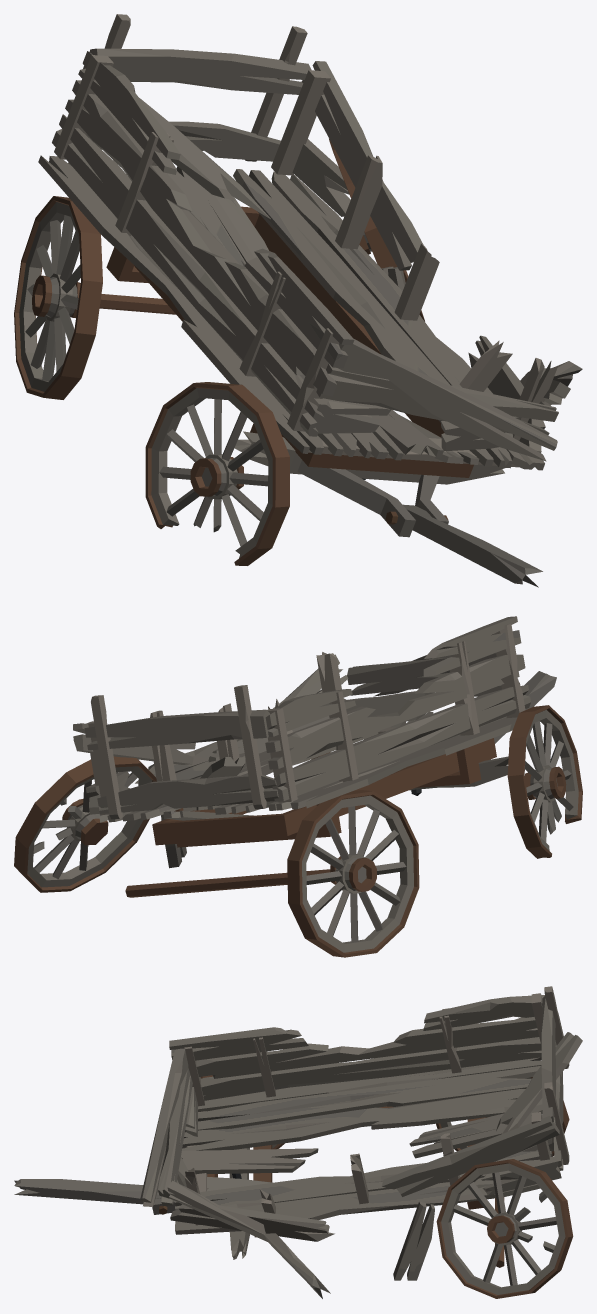
The model's file is SM_Prop_Wagon_Broken_01.fbx.
3 views of the same model, one above another, from view 1: azimuth 30°, elevation 25°; view 2: azimuth 150°, elevation 25°; view 3: azimuth 270°, elevation 25° (orthographic). The views are drawn at different scales.
Visible parts, largest first — view 1: SM_Prop_Wagon_Broken_01; view 2: SM_Prop_Wagon_Broken_01; view 3: SM_Prop_Wagon_Broken_01.
Part boxes in pixels (left/top/right/bottom): SM_Prop_Wagon_Broken_01: left=14, top=14, right=582, bottom=587; SM_Prop_Wagon_Broken_01: left=14, top=616, right=582, bottom=957; SM_Prop_Wagon_Broken_01: left=14, top=986, right=582, bottom=1298.
Size of the model in its own units: 340 by 239 by 532.
Materials: 1 (1 with a texture image).
